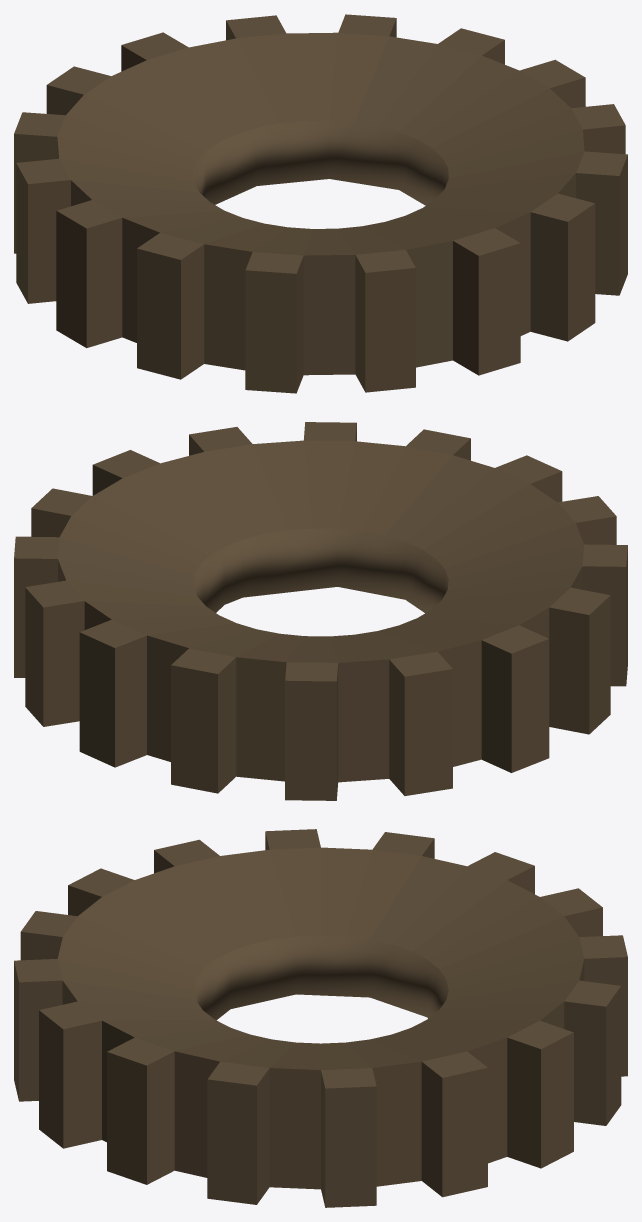
The model's file is JankCog.fbx.
The picture shows the model from 3 angles, top to bottom: view 1: azimuth 30°, elevation 25°; view 2: azimuth 150°, elevation 25°; view 3: azimuth 270°, elevation 25°; orthographic projection.
Parts seen in each view (by area): view 1: Cylinder; view 2: Cylinder; view 3: Cylinder.
Boxes of the visible parts, x1=… form: Cylinder: x1=14, y1=14, x2=627, y2=393; Cylinder: x1=14, y1=422, x2=627, y2=800; Cylinder: x1=14, y1=829, x2=627, y2=1207.
Size of the model in its own units: 233 by 50 by 233.
